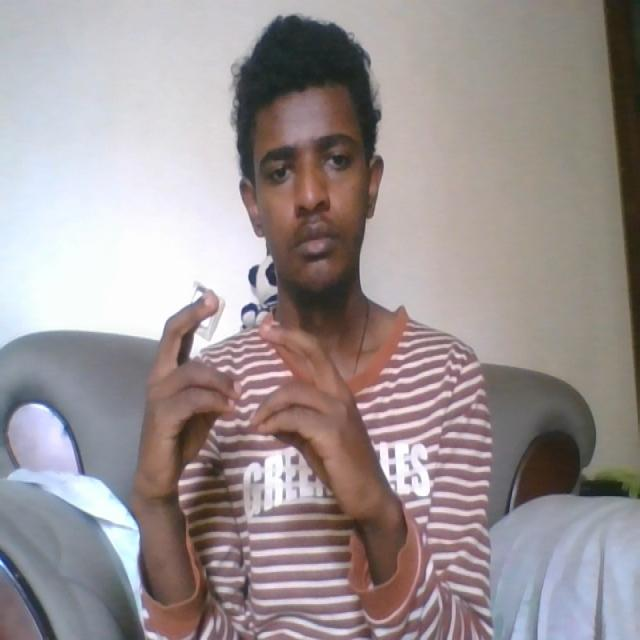sefer: (136, 292, 371, 506)
